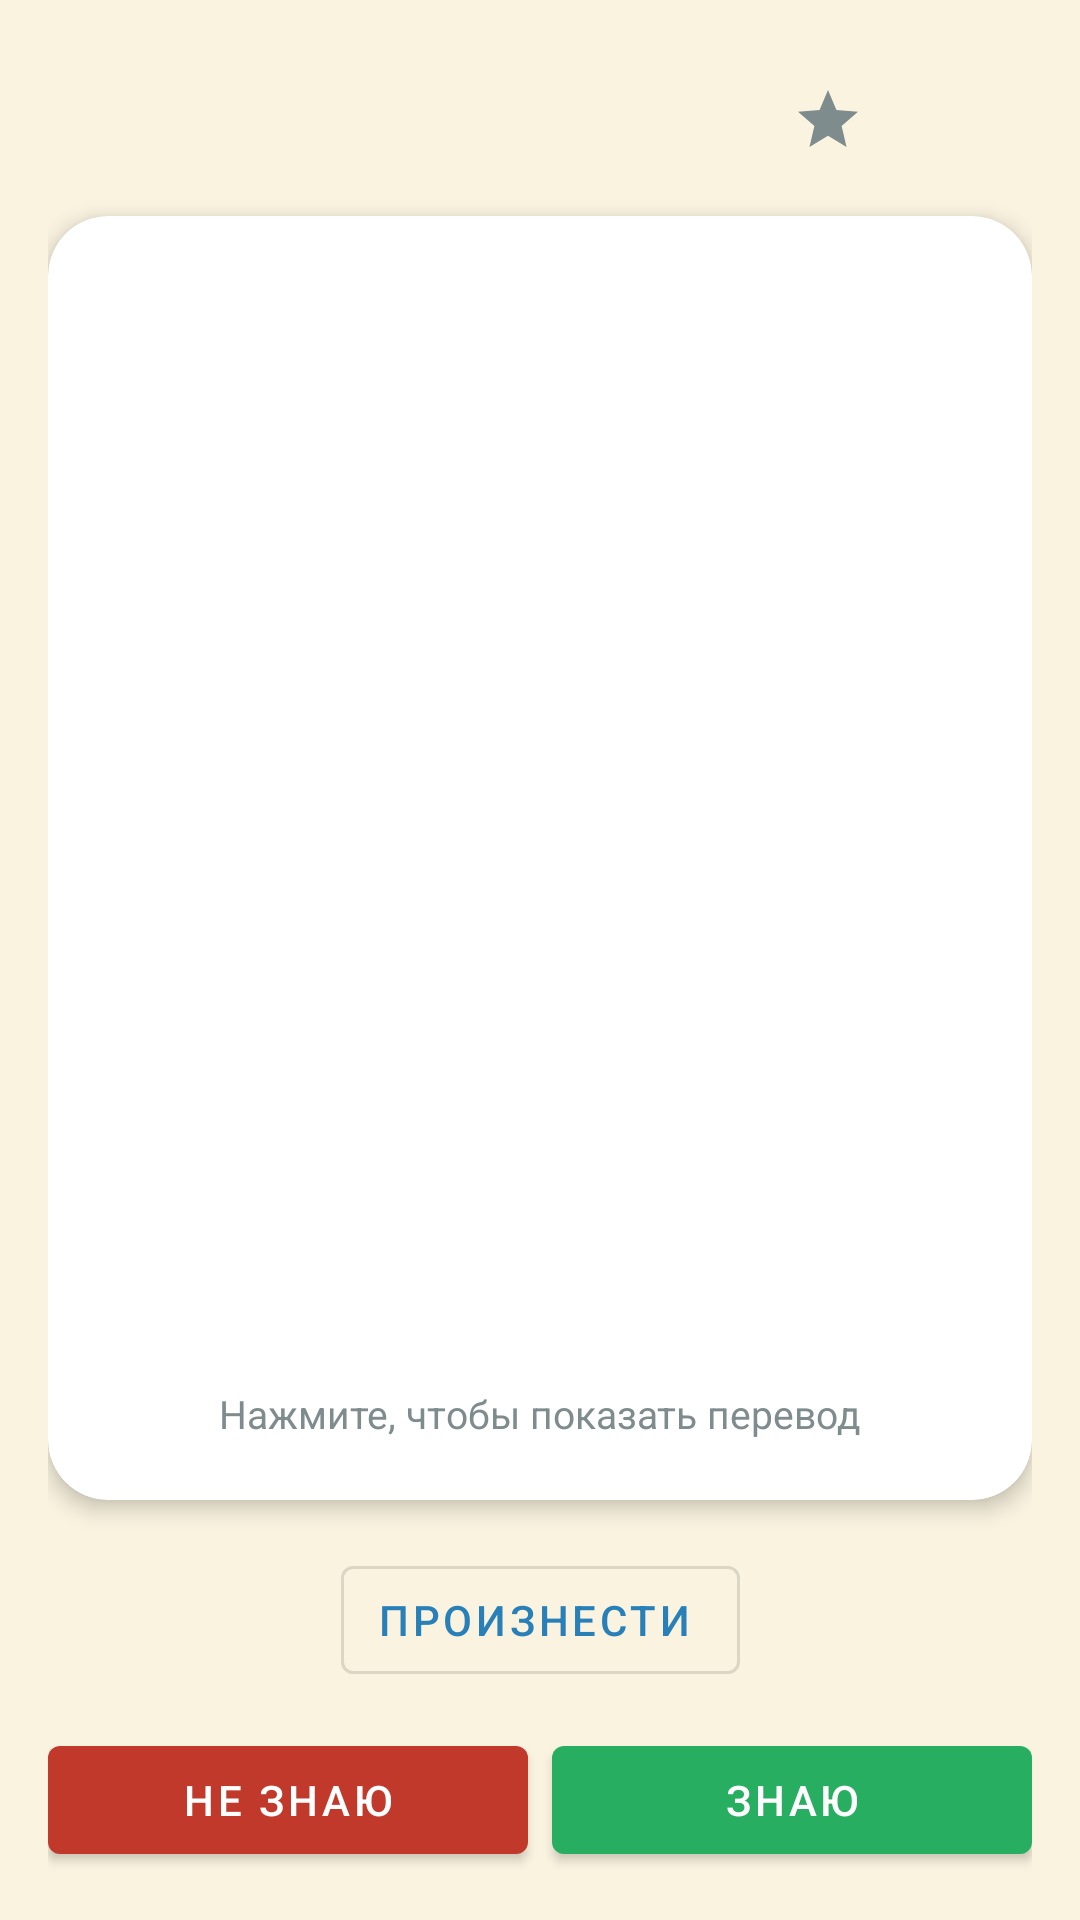

Where icons sit on this 1080px x 1920px app screen, as (x1,y1,x2,y2):
star: (798,90,858,147)
